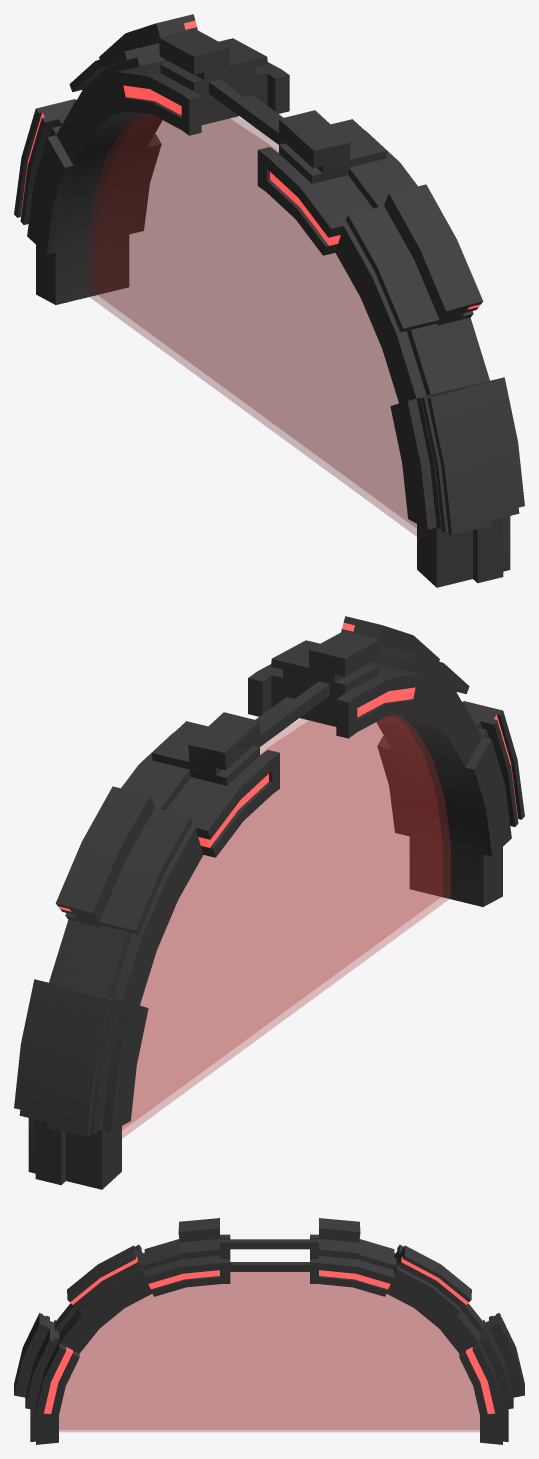
File: RedGateWide.fbx
3 renders of one model, top to bottom at view 1: azimuth 30°, elevation 25°; view 2: azimuth 150°, elevation 25°; view 3: azimuth 270°, elevation 25°, orthographic. The views are drawn at different scales.
Parts seen in each view (by area): view 1: gate_groundWide_red, redW; view 2: gate_groundWide_red, redW; view 3: redW, gate_groundWide_red.
Part boxes in pixels (x1,y1,x2,y2): gate_groundWide_red: [14, 14, 524, 587]; redW: [88, 113, 416, 536]; gate_groundWide_red: [14, 616, 524, 1189]; redW: [122, 715, 450, 1138]; redW: [59, 1272, 479, 1431]; gate_groundWide_red: [14, 1218, 524, 1444].
Size of the model in its own units: 1.17 by 3.95 by 8.86.
